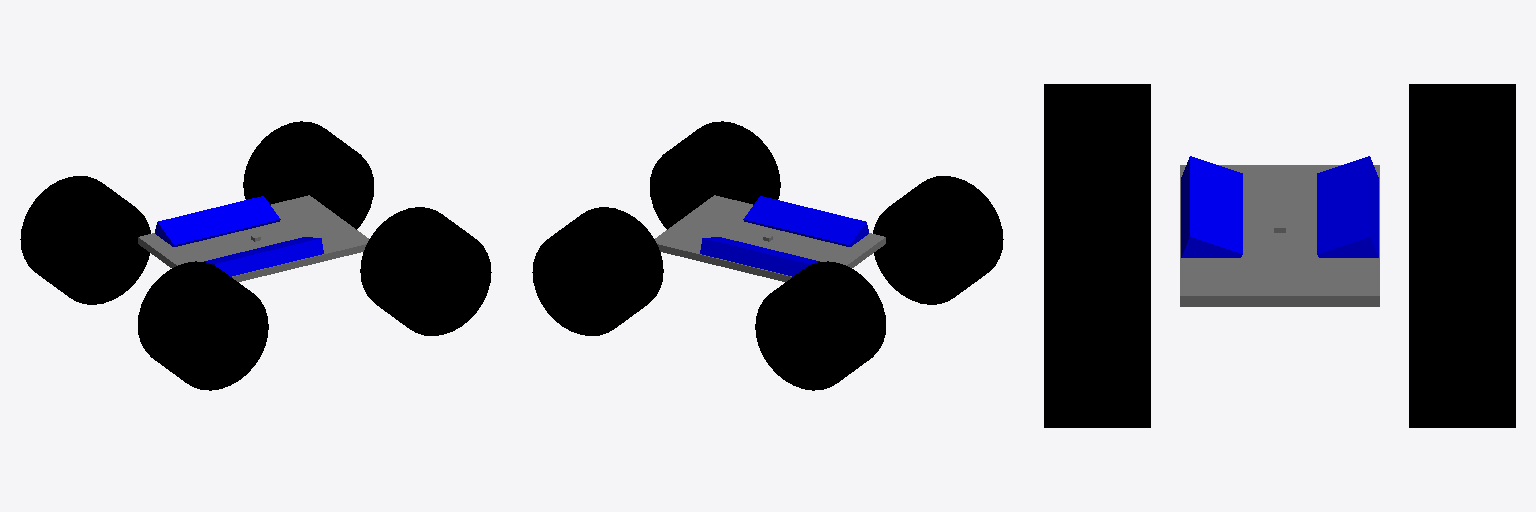
URDF robot description (ackermann_vehicle):
<?xml version="1.0" encoding="utf-8"?>
<!-- =================================================================================== -->
<!-- |    This document was autogenerated by xacro from ackermann_vehicle.xacro        | -->
<!-- |    EDITING THIS FILE BY HAND IS NOT RECOMMENDED                                 | -->
<!-- =================================================================================== -->
<!-- em_3905.urdf.xacro

This file defines a model of a Traxxas(R) E-Maxx(R) #3905 RC (Radio Controlled)
truck.

Lengths are measured in meters, angles are measured in radians, and masses are
measured in kilograms. All of these values are approximations.

To work with Gazebo, each link must have an inertial element, even if
the link only serves to connect two joints. To be visible in Gazebo, a link
must have a collision element. Furthermore, the link must have a Gazebo
material.

Traxxas(R), E-Maxx(R), and Titan(R) are registered trademarks of Traxxas
Management, LLC. em_3905.urdf.xacro was independently created by Wunderkammer
Laboratory, and neither em_3905.urdf.xacro nor Wunderkammer Laboratory is
affiliated with, sponsored by, approved by, or endorsed by Traxxas Management,
LLC. Mabuchi Motor(R) is a registered trademark of Mabuchi Motor Co., Ltd.
Corporation Japan. All other trademarks and service marks are the property of
their respective owners.

Copyright (c) 2011-2014 Wunderkammer Laboratory

Licensed under the Apache License, Version 2.0 (the "License");
you may not use this file except in compliance with the License.
You may obtain a copy of the License at

  http://www.apache.org/licenses/LICENSE-2.0

Unless required by applicable law or agreed to in writing, software
distributed under the License is distributed on an "AS IS" BASIS,
WITHOUT WARRANTIES OR CONDITIONS OF ANY KIND, either express or implied.
See the License for the specific language governing permissions and
limitations under the License.
-->
<robot name="ackermann_vehicle" xmlns:xacro="http://www.ros.org/wiki/xacro">
  <material name="battery_mat">
    <color rgba="0 0 1 1"/>
  </material>
  <material name="chassis_mat">
    <color rgba="0.5 0.5 0.5 1"/>
  </material>
  <material name="tire_mat">
    <color rgba="0 0 0 1"/>
  </material>
  <!-- base_link must have geometry so that its axes can be displayed in
       rviz. -->
  <link name="base_link">
    <visual>
      <geometry>
        <box size="0.01 0.01 0.01"/>
      </geometry>
      <material name="chassis_mat"/>
    </visual>
  </link>
  <gazebo reference="base_link">
    <material>Gazebo/Grey</material>
  </gazebo>
  <!-- Chassis -->
  <link name="chassis">
    <visual>
      <origin xyz="0 0 -0.005"/>
      <geometry>
        <box size="0.258 0.168 0.01"/>
      </geometry>
      <material name="chassis_mat"/>
    </visual>
    <collision>
      <origin xyz="0 0 -0.005"/>
      <geometry>
        <box size="0.258 0.168 0.01"/>
      </geometry>
    </collision>
    <inertial>
      <origin xyz="0 0 -0.005"/>
      <mass value="2.788"/>
      <inertia ixx="0.00658060933333" ixy="0" ixz="0" iyy="0.0154882693333" iyz="0" izz="0.022022412"/>
    </inertial>
  </link>
  <gazebo reference="chassis">
    <material>Gazebo/Grey</material>
  </gazebo>
  <joint name="base_link_to_chassis" type="fixed">
    <parent link="base_link"/>
    <child link="chassis"/>
  </joint>
  <joint name="chassis_to_left_battery" type="fixed">
    <parent link="chassis"/>
    <child link="left_battery_offset"/>
    <origin rpy="0.34906585 0 0" xyz="-0.025                    0.0325                    0"/>
  </joint>
  <link name="left_battery_offset">
    <inertial>
      <mass value="0.001"/>
      <inertia ixx="0.001" ixy="0" ixz="0" iyy="0.001" iyz="0" izz="0.001"/>
    </inertial>
  </link>
  <joint name="offset_to_left_battery" type="fixed">
    <parent link="left_battery_offset"/>
    <child link="left_battery"/>
    <origin xyz="0                    0.0235                    -0.008"/>
  </joint>
  <link name="left_battery">
    <visual>
      <geometry>
        <box size="0.16 0.047 0.024"/>
      </geometry>
      <material name="battery_mat"/>
    </visual>
    <collision>
      <geometry>
        <box size="0.16 0.047 0.024"/>
      </geometry>
    </collision>
    <inertial>
      <origin/>
      <mass value="0.5025"/>
      <inertia ixx="0.000116621875" ixy="0" ixz="0" iyy="0.00109612" iyz="0" izz="0.001164501875"/>
    </inertial>
  </link>
  <gazebo reference="left_battery">
    <material>Gazebo/Blue</material>
  </gazebo>
  <joint name="chassis_to_right_battery" type="fixed">
    <parent link="chassis"/>
    <child link="right_battery_offset"/>
    <origin rpy="-0.34906585 0 0" xyz="-0.025                    -0.0325                    0"/>
  </joint>
  <link name="right_battery_offset">
    <inertial>
      <mass value="0.001"/>
      <inertia ixx="0.001" ixy="0" ixz="0" iyy="0.001" iyz="0" izz="0.001"/>
    </inertial>
  </link>
  <joint name="offset_to_right_battery" type="fixed">
    <parent link="right_battery_offset"/>
    <child link="right_battery"/>
    <origin xyz="0                    -0.0235                    -0.008"/>
  </joint>
  <link name="right_battery">
    <visual>
      <geometry>
        <box size="0.16 0.047 0.024"/>
      </geometry>
      <material name="battery_mat"/>
    </visual>
    <collision>
      <geometry>
        <box size="0.16 0.047 0.024"/>
      </geometry>
    </collision>
    <inertial>
      <origin/>
      <mass value="0.5025"/>
      <inertia ixx="0.000116621875" ixy="0" ixz="0" iyy="0.00109612" iyz="0" izz="0.001164501875"/>
    </inertial>
  </link>
  <gazebo reference="right_battery">
    <material>Gazebo/Blue</material>
  </gazebo>
  <joint name="left_front_shock" type="prismatic">
    <parent link="chassis"/>
    <child link="left_steering_link"/>
    <origin xyz="0.1675                    0.1525                    -0.0235"/>
    <axis xyz="0 0 -1"/>
    <limit effort="12.5106" lower="-0.042" upper="0.042" velocity="1000"/>
  </joint>
  <transmission name="left_front_shock_trans">
    <type>transmission_interface/SimpleTransmission</type>
    <joint name="left_front_shock">
      <hardwareInterface>EffortJointInterface</hardwareInterface>
    </joint>
    <actuator name="left_front_shock_act">
      <!-- This hardwareInterface element exists for compatibility
             with ROS Hydro. -->
      <hardwareInterface>EffortJointInterface</hardwareInterface>
      <mechanicalReduction>1</mechanicalReduction>
    </actuator>
  </transmission>
  <link name="left_steering_link">
    <inertial>
      <mass value="0.001"/>
      <inertia ixx="0.001" ixy="0" ixz="0" iyy="0.001" iyz="0" izz="0.001"/>
    </inertial>
  </link>
  <joint name="left_steering_joint" type="revolute">
    <parent link="left_steering_link"/>
    <child link="left_front_axle_carrier"/>
    <axis xyz="0 0 1"/>
    <limit effort="0.5649" lower="-0.785398163" upper="0.785398163" velocity="4.553"/>
  </joint>
  <transmission name="left_steering_trans">
    <type>transmission_interface/SimpleTransmission</type>
    <joint name="left_steering_joint">
      <hardwareInterface>EffortJointInterface</hardwareInterface>
    </joint>
    <actuator name="left_steering_act">
      <!-- This hardwareInterface element exists for compatibility
             with ROS Hydro. -->
      <hardwareInterface>EffortJointInterface</hardwareInterface>
      <mechanicalReduction>1</mechanicalReduction>
    </actuator>
  </transmission>
  <link name="left_front_axle_carrier">
    <inertial>
      <mass value="0.001"/>
      <inertia ixx="0.001" ixy="0" ixz="0" iyy="0.001" iyz="0" izz="0.001"/>
    </inertial>
  </link>
  <!-- The left and right axles have the same axis so that identical
         rotation values cause the wheels to rotate in the same direction. -->
  <joint name="left_front_axle" type="continuous">
    <parent link="left_front_axle_carrier"/>
    <child link="left_front_wheel"/>
    <origin rpy="1.57079633 0 0"/>
    <axis xyz="0 0 -1"/>
    <limit effort="5.12766" velocity="244.8696"/>
  </joint>
  <transmission name="left_front_axle_trans">
    <type>transmission_interface/SimpleTransmission</type>
    <joint name="left_front_axle">
      <hardwareInterface>EffortJointInterface</hardwareInterface>
    </joint>
    <actuator name="left_front_axle_act">
      <!-- This hardwareInterface element exists for compatibility
             with ROS Hydro. -->
      <hardwareInterface>EffortJointInterface</hardwareInterface>
      <mechanicalReduction>1</mechanicalReduction>
    </actuator>
  </transmission>
  <link name="left_front_wheel">
    <visual>
      <origin xyz="0                      -6.93889390391e-18                      0"/>
      <geometry>
        <cylinder length="0.0889" radius="0.073025"/>
      </geometry>
      <material name="tire_mat"/>
    </visual>
    <collision>
      <origin xyz="0                      -6.93889390391e-18                      0"/>
      <geometry>
        <cylinder length="0.0889" radius="0.073025"/>
      </geometry>
    </collision>
    <inertial>
      <mass value="0.29"/>
      <inertia ixx="0.000746465912979" ixy="0" ixz="0" iyy="0.000746465912979" iyz="0" izz="0.00111094334263"/>
    </inertial>
  </link>
  <gazebo reference="left_front_wheel">
    <material>Gazebo/Black</material>
  </gazebo>
  <joint name="right_front_shock" type="prismatic">
    <parent link="chassis"/>
    <child link="right_steering_link"/>
    <origin xyz="0.1675                    -0.1525                    -0.0235"/>
    <axis xyz="0 0 -1"/>
    <limit effort="12.5106" lower="-0.042" upper="0.042" velocity="1000"/>
  </joint>
  <transmission name="right_front_shock_trans">
    <type>transmission_interface/SimpleTransmission</type>
    <joint name="right_front_shock">
      <hardwareInterface>EffortJointInterface</hardwareInterface>
    </joint>
    <actuator name="right_front_shock_act">
      <!-- This hardwareInterface element exists for compatibility
             with ROS Hydro. -->
      <hardwareInterface>EffortJointInterface</hardwareInterface>
      <mechanicalReduction>1</mechanicalReduction>
    </actuator>
  </transmission>
  <link name="right_steering_link">
    <inertial>
      <mass value="0.001"/>
      <inertia ixx="0.001" ixy="0" ixz="0" iyy="0.001" iyz="0" izz="0.001"/>
    </inertial>
  </link>
  <joint name="right_steering_joint" type="revolute">
    <parent link="right_steering_link"/>
    <child link="right_front_axle_carrier"/>
    <axis xyz="0 0 1"/>
    <limit effort="0.5649" lower="-0.785398163" upper="0.785398163" velocity="4.553"/>
  </joint>
  <transmission name="right_steering_trans">
    <type>transmission_interface/SimpleTransmission</type>
    <joint name="right_steering_joint">
      <hardwareInterface>EffortJointInterface</hardwareInterface>
    </joint>
    <actuator name="right_steering_act">
      <!-- This hardwareInterface element exists for compatibility
             with ROS Hydro. -->
      <hardwareInterface>EffortJointInterface</hardwareInterface>
      <mechanicalReduction>1</mechanicalReduction>
    </actuator>
  </transmission>
  <link name="right_front_axle_carrier">
    <inertial>
      <mass value="0.001"/>
      <inertia ixx="0.001" ixy="0" ixz="0" iyy="0.001" iyz="0" izz="0.001"/>
    </inertial>
  </link>
  <!-- The left and right axles have the same axis so that identical
         rotation values cause the wheels to rotate in the same direction. -->
  <joint name="right_front_axle" type="continuous">
    <parent link="right_front_axle_carrier"/>
    <child link="right_front_wheel"/>
    <origin rpy="1.57079633 0 0"/>
    <axis xyz="0 0 -1"/>
    <limit effort="5.12766" velocity="244.8696"/>
  </joint>
  <transmission name="right_front_axle_trans">
    <type>transmission_interface/SimpleTransmission</type>
    <joint name="right_front_axle">
      <hardwareInterface>EffortJointInterface</hardwareInterface>
    </joint>
    <actuator name="right_front_axle_act">
      <!-- This hardwareInterface element exists for compatibility
             with ROS Hydro. -->
      <hardwareInterface>EffortJointInterface</hardwareInterface>
      <mechanicalReduction>1</mechanicalReduction>
    </actuator>
  </transmission>
  <link name="right_front_wheel">
    <visual>
      <origin xyz="0                      6.93889390391e-18                      0"/>
      <geometry>
        <cylinder length="0.0889" radius="0.073025"/>
      </geometry>
      <material name="tire_mat"/>
    </visual>
    <collision>
      <origin xyz="0                      6.93889390391e-18                      0"/>
      <geometry>
        <cylinder length="0.0889" radius="0.073025"/>
      </geometry>
    </collision>
    <inertial>
      <mass value="0.29"/>
      <inertia ixx="0.000746465912979" ixy="0" ixz="0" iyy="0.000746465912979" iyz="0" izz="0.00111094334263"/>
    </inertial>
  </link>
  <gazebo reference="right_front_wheel">
    <material>Gazebo/Black</material>
  </gazebo>
  <joint name="left_rear_shock" type="prismatic">
    <parent link="chassis"/>
    <child link="left_rear_axle_carrier"/>
    <origin xyz="-0.1675                    0.1525                    -0.0235"/>
    <axis xyz="0 0 -1"/>
    <limit effort="12.5106" lower="-0.042" upper="0.042" velocity="1000"/>
  </joint>
  <transmission name="left_rear_shock_trans">
    <type>transmission_interface/SimpleTransmission</type>
    <joint name="left_rear_shock">
      <hardwareInterface>EffortJointInterface</hardwareInterface>
    </joint>
    <actuator name="left_rear_shock_act">
      <!-- This hardwareInterface element exists for compatibility
             with ROS Hydro. -->
      <hardwareInterface>EffortJointInterface</hardwareInterface>
      <mechanicalReduction>1</mechanicalReduction>
    </actuator>
  </transmission>
  <link name="left_rear_axle_carrier">
    <inertial>
      <mass value="0.001"/>
      <inertia ixx="0.001" ixy="0" ixz="0" iyy="0.001" iyz="0" izz="0.001"/>
    </inertial>
  </link>
  <!-- The left and right axles have the same axis so that identical
         rotation values cause the wheels to rotate in the same direction. -->
  <joint name="left_rear_axle" type="continuous">
    <parent link="left_rear_axle_carrier"/>
    <child link="left_rear_wheel"/>
    <origin rpy="1.57079633 0 0"/>
    <axis xyz="0 0 -1"/>
    <limit effort="5.12766" velocity="244.8696"/>
  </joint>
  <transmission name="left_rear_axle_trans">
    <type>transmission_interface/SimpleTransmission</type>
    <joint name="left_rear_axle">
      <hardwareInterface>EffortJointInterface</hardwareInterface>
    </joint>
    <actuator name="left_rear_axle_act">
      <!-- This hardwareInterface element exists for compatibility
             with ROS Hydro. -->
      <hardwareInterface>EffortJointInterface</hardwareInterface>
      <mechanicalReduction>1</mechanicalReduction>
    </actuator>
  </transmission>
  <link name="left_rear_wheel">
    <visual>
      <origin xyz="0                      -6.93889390391e-18                      0"/>
      <geometry>
        <cylinder length="0.0889" radius="0.073025"/>
      </geometry>
      <material name="tire_mat"/>
    </visual>
    <collision>
      <origin xyz="0                      -6.93889390391e-18                      0"/>
      <geometry>
        <cylinder length="0.0889" radius="0.073025"/>
      </geometry>
    </collision>
    <inertial>
      <mass value="0.29"/>
      <inertia ixx="0.000746465912979" ixy="0" ixz="0" iyy="0.000746465912979" iyz="0" izz="0.00111094334263"/>
    </inertial>
  </link>
  <gazebo reference="left_rear_wheel">
    <material>Gazebo/Black</material>
  </gazebo>
  <joint name="right_rear_shock" type="prismatic">
    <parent link="chassis"/>
    <child link="right_rear_axle_carrier"/>
    <origin xyz="-0.1675                    -0.1525                    -0.0235"/>
    <axis xyz="0 0 -1"/>
    <limit effort="12.5106" lower="-0.042" upper="0.042" velocity="1000"/>
  </joint>
  <transmission name="right_rear_shock_trans">
    <type>transmission_interface/SimpleTransmission</type>
    <joint name="right_rear_shock">
      <hardwareInterface>EffortJointInterface</hardwareInterface>
    </joint>
    <actuator name="right_rear_shock_act">
      <!-- This hardwareInterface element exists for compatibility
             with ROS Hydro. -->
      <hardwareInterface>EffortJointInterface</hardwareInterface>
      <mechanicalReduction>1</mechanicalReduction>
    </actuator>
  </transmission>
  <link name="right_rear_axle_carrier">
    <inertial>
      <mass value="0.001"/>
      <inertia ixx="0.001" ixy="0" ixz="0" iyy="0.001" iyz="0" izz="0.001"/>
    </inertial>
  </link>
  <!-- The left and right axles have the same axis so that identical
         rotation values cause the wheels to rotate in the same direction. -->
  <joint name="right_rear_axle" type="continuous">
    <parent link="right_rear_axle_carrier"/>
    <child link="right_rear_wheel"/>
    <origin rpy="1.57079633 0 0"/>
    <axis xyz="0 0 -1"/>
    <limit effort="5.12766" velocity="244.8696"/>
  </joint>
  <transmission name="right_rear_axle_trans">
    <type>transmission_interface/SimpleTransmission</type>
    <joint name="right_rear_axle">
      <hardwareInterface>EffortJointInterface</hardwareInterface>
    </joint>
    <actuator name="right_rear_axle_act">
      <!-- This hardwareInterface element exists for compatibility
             with ROS Hydro. -->
      <hardwareInterface>EffortJointInterface</hardwareInterface>
      <mechanicalReduction>1</mechanicalReduction>
    </actuator>
  </transmission>
  <link name="right_rear_wheel">
    <visual>
      <origin xyz="0                      6.93889390391e-18                      0"/>
      <geometry>
        <cylinder length="0.0889" radius="0.073025"/>
      </geometry>
      <material name="tire_mat"/>
    </visual>
    <collision>
      <origin xyz="0                      6.93889390391e-18                      0"/>
      <geometry>
        <cylinder length="0.0889" radius="0.073025"/>
      </geometry>
    </collision>
    <inertial>
      <mass value="0.29"/>
      <inertia ixx="0.000746465912979" ixy="0" ixz="0" iyy="0.000746465912979" iyz="0" izz="0.00111094334263"/>
    </inertial>
  </link>
  <gazebo reference="right_rear_wheel">
    <material>Gazebo/Black</material>
  </gazebo>
  <gazebo>
    <plugin filename="libgazebo_ros_control.so" name="gazebo_ros_control"/>
  </gazebo>
</robot>

--- Facts derived from the render (not from the file) ---
Views: 3 orthographic renders of the robot side by side, from view 1: azimuth 30°, elevation 25°; view 2: azimuth 150°, elevation 25°; view 3: azimuth 270°, elevation 25°.
Model ackermann_vehicle with 16 links and 15 joints (2 revolute, 4 continuous, 4 prismatic, 5 fixed), rooted at base_link, posed all joints at 0.
Visible links, largest first — view 1: right_front_wheel, right_rear_wheel, left_rear_wheel, left_front_wheel, chassis, left_battery, right_battery; view 2: left_front_wheel, left_rear_wheel, right_rear_wheel, right_front_wheel, chassis, right_battery, left_battery; view 3: left_front_wheel, right_front_wheel, left_rear_wheel, right_rear_wheel, chassis, left_battery, right_battery.
Boxes of the visible links, x1,y1,x2,y2 form: right_front_wheel: (360,207,491,335); right_rear_wheel: (138,261,268,390); left_rear_wheel: (20,176,150,304); left_front_wheel: (243,121,373,229); chassis: (138,195,368,281); left_battery: (155,196,280,246); right_battery: (204,237,323,276); left_front_wheel: (532,207,663,335); left_rear_wheel: (755,261,885,390); right_rear_wheel: (873,176,1003,304); right_front_wheel: (650,121,780,229); chassis: (655,195,885,281); right_battery: (743,196,868,246); left_battery: (700,237,819,276); left_front_wheel: (1409,253,1515,427); right_front_wheel: (1044,253,1150,427); left_rear_wheel: (1409,84,1515,252); right_rear_wheel: (1044,84,1150,252); chassis: (1180,165,1379,306); left_battery: (1317,156,1378,257); right_battery: (1181,156,1242,257).
Bounding box of the posed robot: 0.4811 × 0.3939 × 0.1461 m (x, y, z).
Geometry: primitives only (box / cylinder / sphere), no mesh files.
